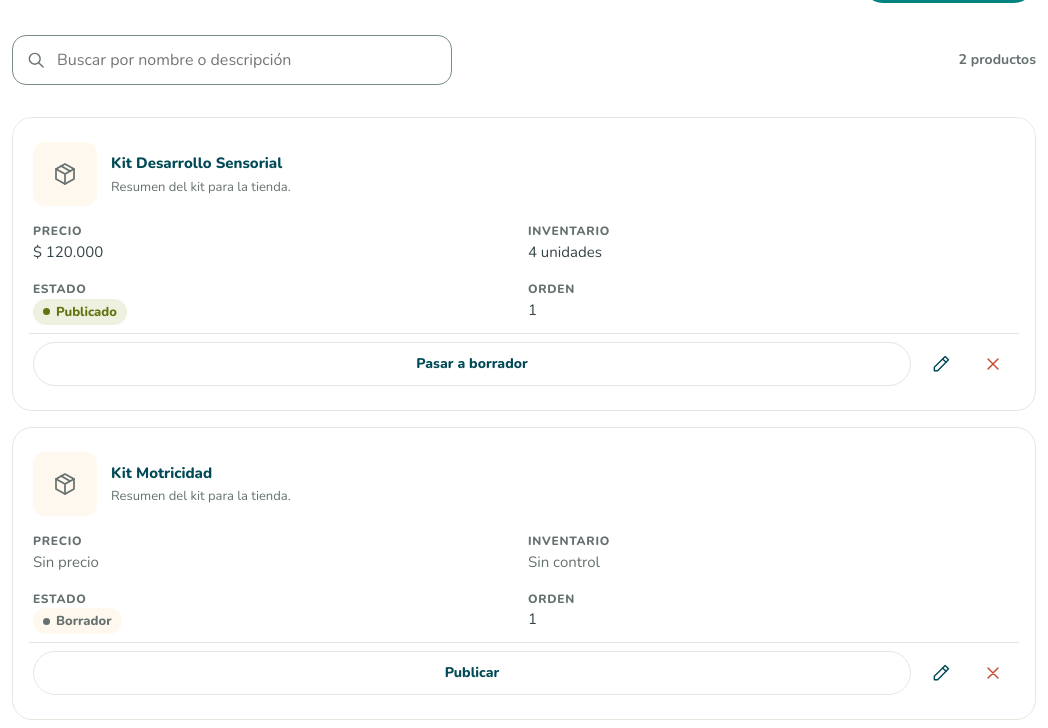
ProductListComponent › publishes a draft from the list
(page scrolled)
Click the button "Publicar" at (472, 674), box [33,652,911,696]
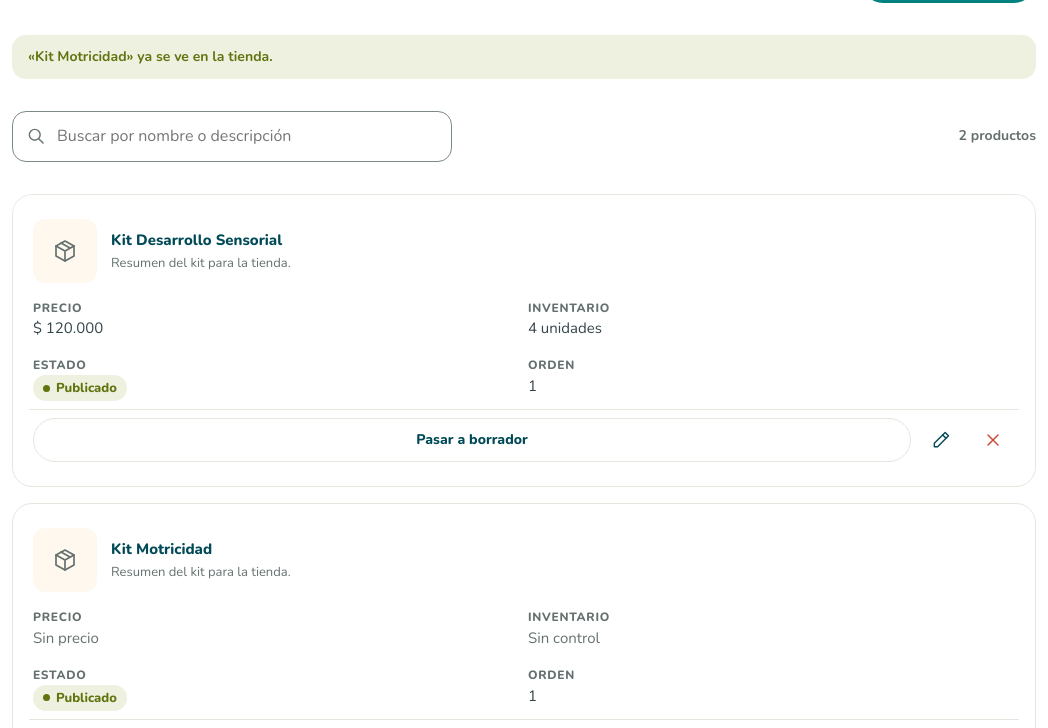
Expected: the row that starts with "Kit Motricidad" shows "Publicado", [56,689,117,707]
Expected: the text with class "form-alert--success" shows "ya se ve en la tienda", [28,46,273,66]
